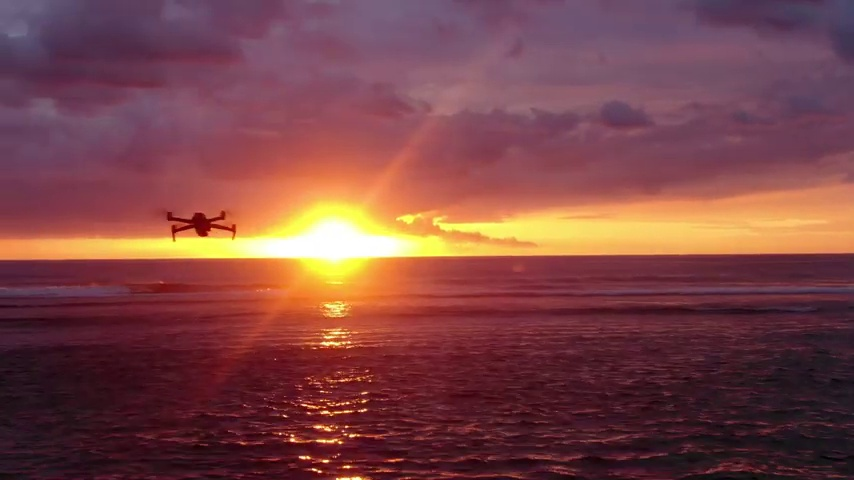drone: (164, 210, 235, 240)
